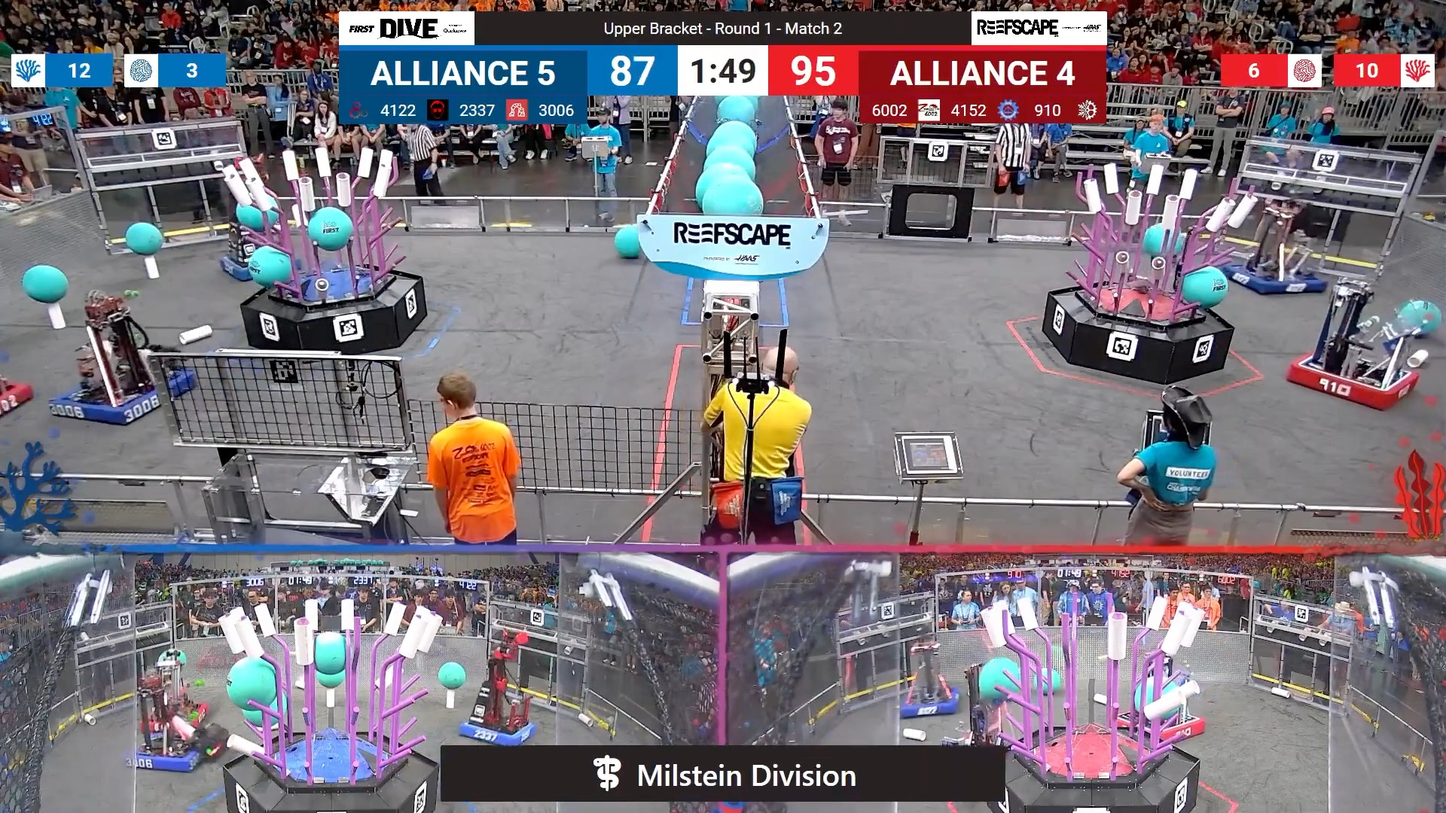bumpers: (1277, 345, 1421, 414), (45, 372, 196, 431), (1208, 263, 1334, 303), (124, 731, 223, 780), (1120, 703, 1210, 744), (450, 711, 546, 748), (894, 682, 965, 723), (0, 370, 40, 434)
